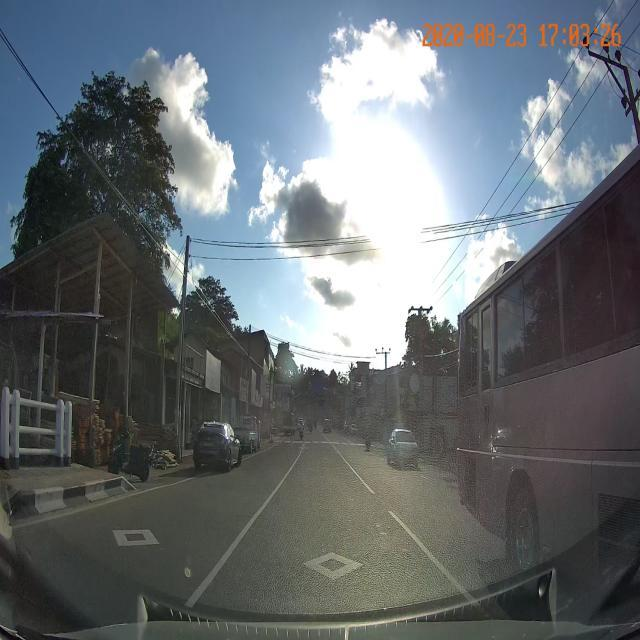diamond: (178, 531, 490, 609)
